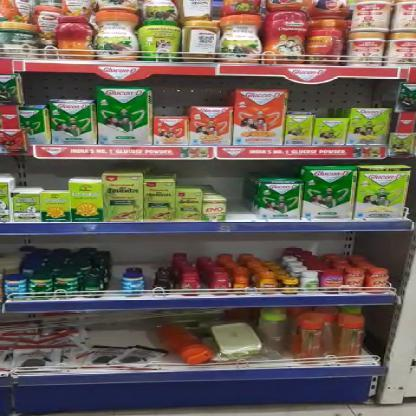Glucon D Nimbu Pani 1-KG: (355, 166, 410, 220)
